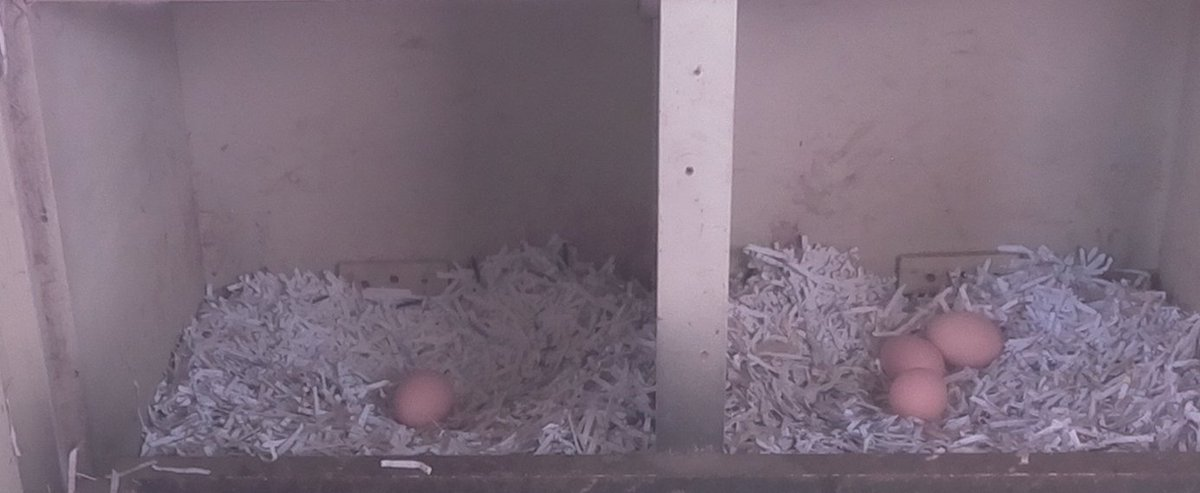egg: (923, 309, 1008, 371), (390, 367, 461, 433), (884, 361, 955, 424), (876, 332, 949, 380)
